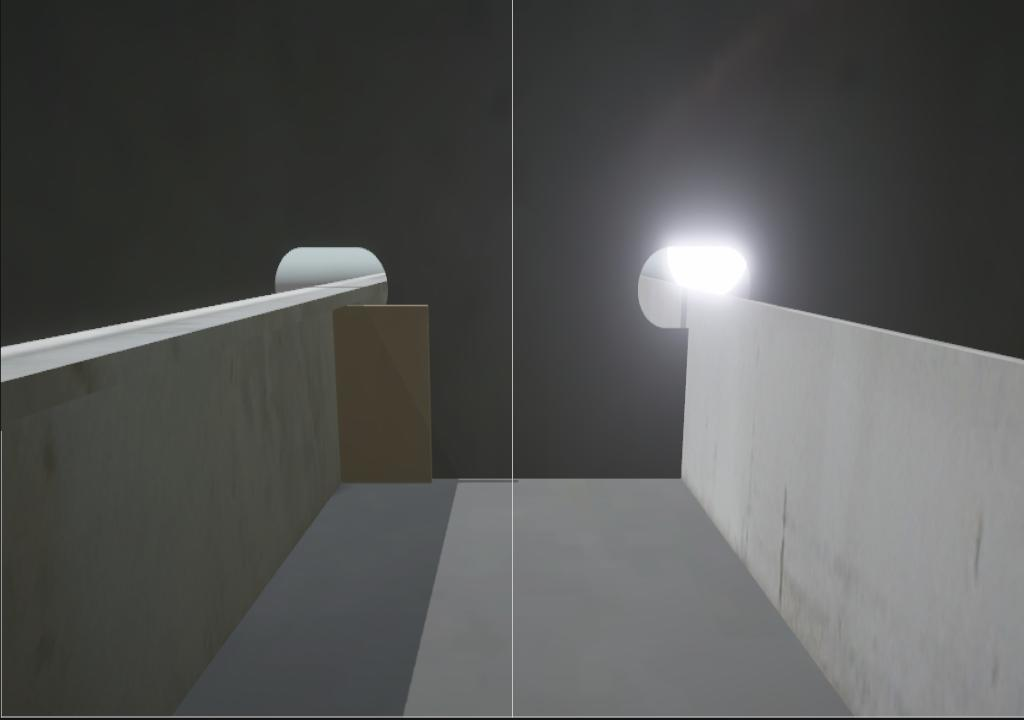fillet_yong_jeop_jang: (434, 474, 683, 483)
longi_yong_jeop_jang: (675, 327, 692, 483)
plate_CP01: (333, 303, 433, 484)
